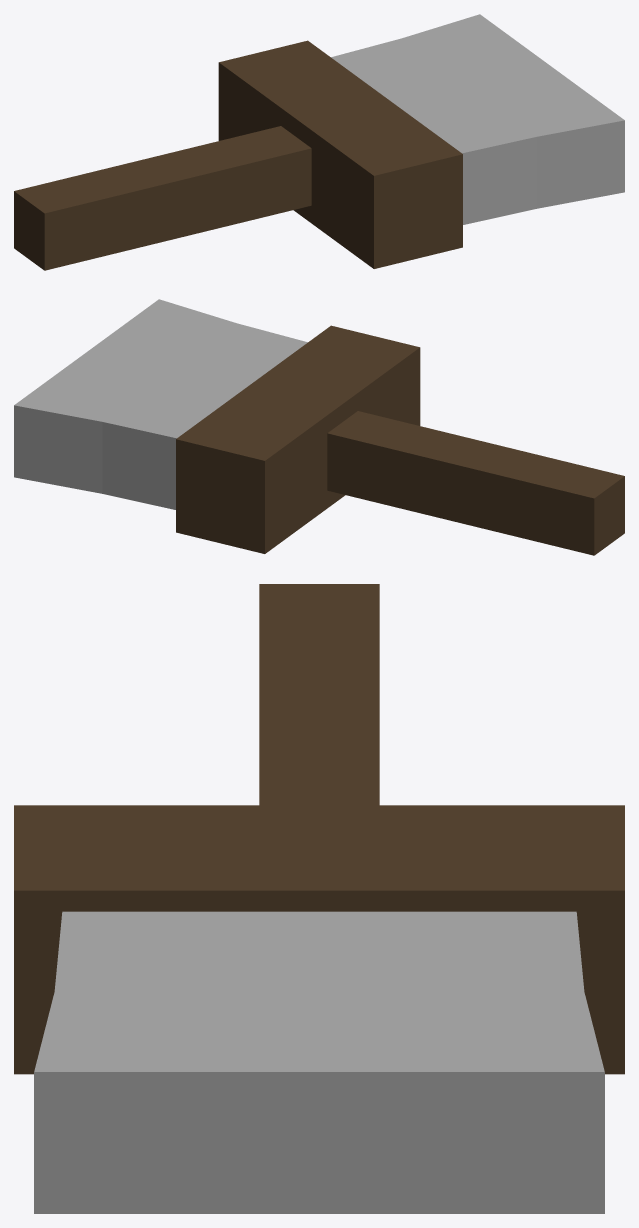
Rendered from Pincel.fbx.
3 views of the same model, one above another, from view 1: azimuth 30°, elevation 25°; view 2: azimuth 150°, elevation 25°; view 3: azimuth 270°, elevation 25° (orthographic). The views are drawn at different scales.
Visible parts, largest first — view 1: Cube.135; view 2: Cube.135; view 3: Cube.135.
Boxes of the visible parts, bbox=[...] form: Cube.135: bbox=[14, 14, 624, 270]; Cube.135: bbox=[14, 299, 624, 555]; Cube.135: bbox=[14, 584, 624, 1213].
Size of the model in its own units: 48.62 by 8.28 by 24.99.
